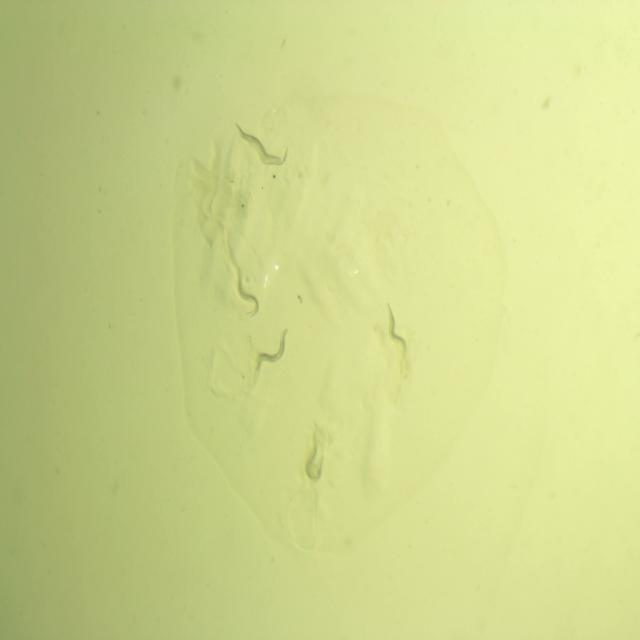worm: (233, 122, 284, 164), (252, 325, 288, 372), (234, 270, 264, 322), (384, 301, 411, 358), (245, 136, 290, 167), (302, 431, 326, 485)
